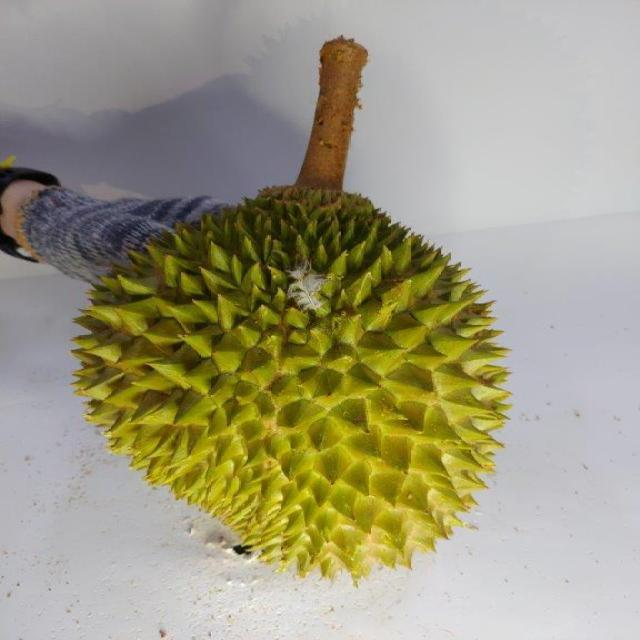immature: (66, 189, 518, 589)
